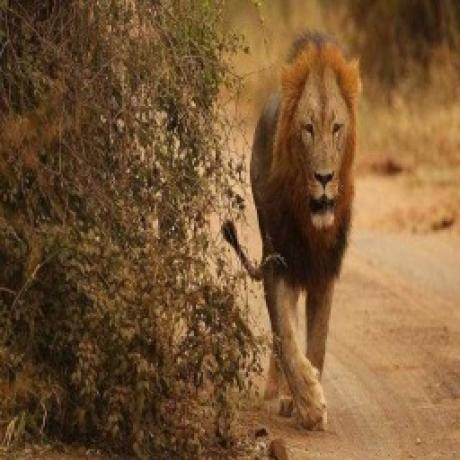Lion: (224, 37, 367, 433)
